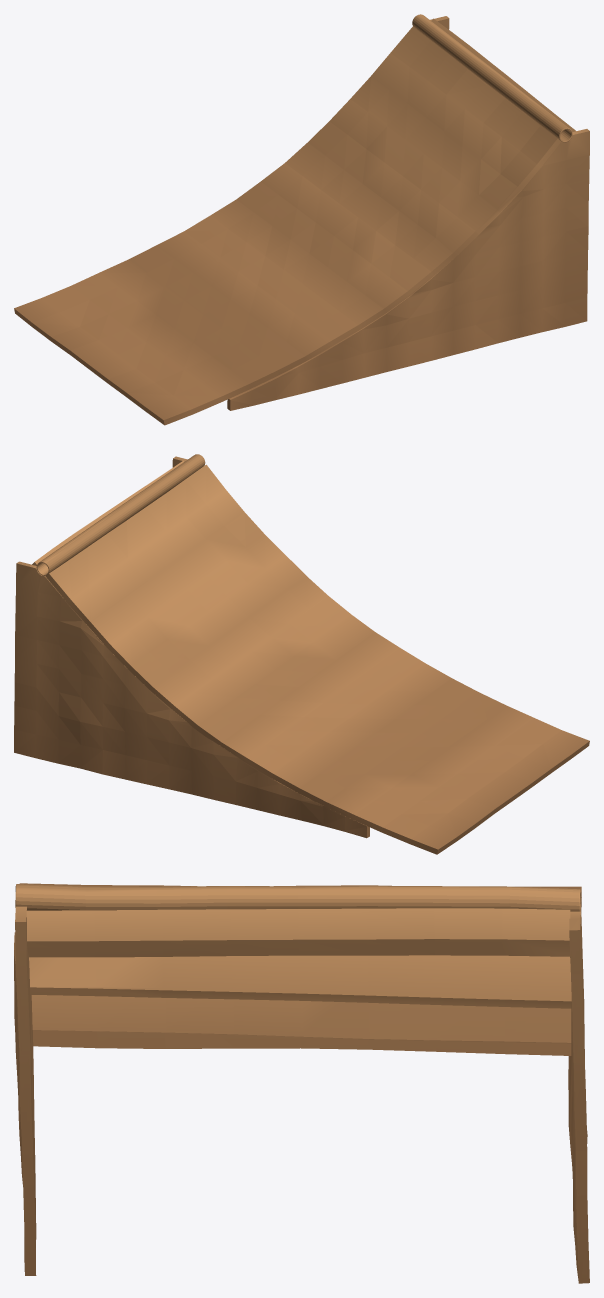
The model's file is ramp.glb.
The picture shows the model from 3 angles, top to bottom: view 1: azimuth 30°, elevation 25°; view 2: azimuth 150°, elevation 25°; view 3: azimuth 270°, elevation 25°; orthographic projection. The views are drawn at different scales.
Parts seen in each view (by area): view 1: prop; view 2: prop; view 3: prop.
Boxes of the visible parts, x1,y1,x2,y2 form: prop: (14,14,589,425); prop: (14,454,589,854); prop: (14,883,589,1283).
Size of the model in its own units: 8.84 by 3.93 by 5.5.
